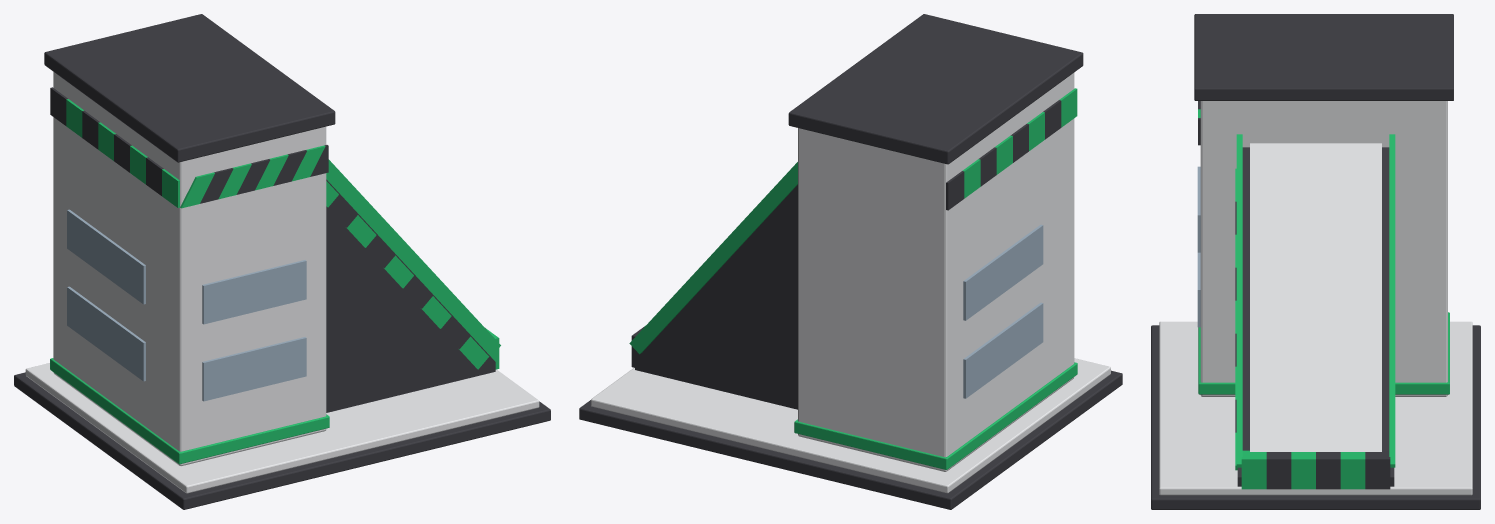
Rendered from cliff.glb.
3 renders of one model, left to right at view 1: azimuth 30°, elevation 25°; view 2: azimuth 150°, elevation 25°; view 3: azimuth 270°, elevation 25°, orthographic. The views are drawn at different scales.
Visible parts, largest first — view 1: cliff; view 2: cliff; view 3: cliff.
Boxes of the visible parts, x1,y1,x2,y2 form: cliff: (14, 14, 550, 509); cliff: (579, 14, 1122, 509); cliff: (1151, 14, 1480, 509).
Size of the model in its own units: 10 by 8.85 by 8.
